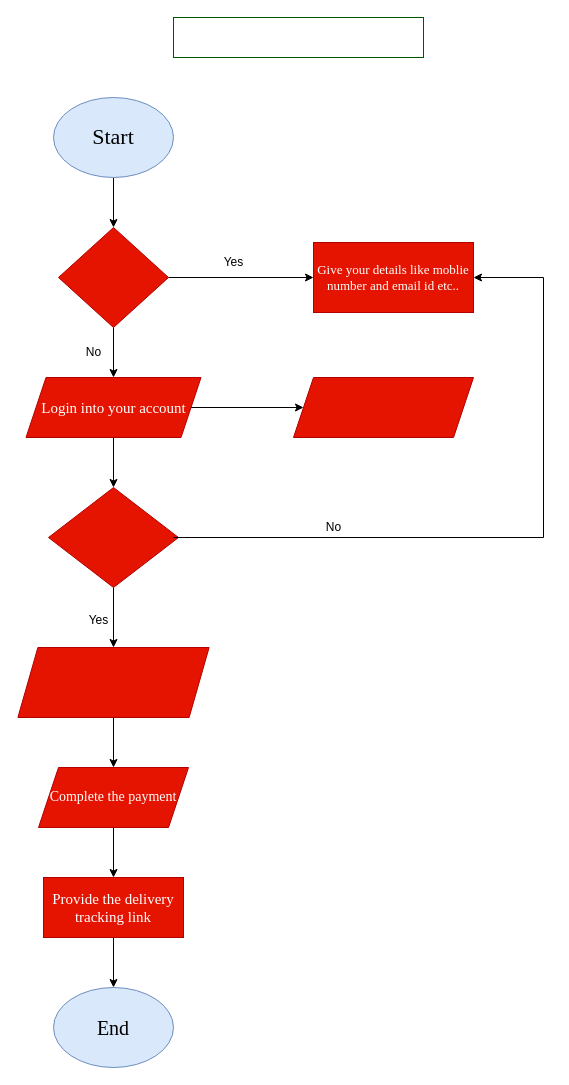
Some shapes in this 569 by 1085 pixel diagram are drawn without their labels. The box of each missing label's shape, as (x1, y1, x2, y2) in pixels:
New User Sign Up: (58, 226, 168, 328)
Proceed for the payment for selected food items: (17, 646, 209, 718)
Store the previous orders data in my account: (292, 376, 474, 438)
User Recognisded proceed with order: (48, 486, 178, 588)
